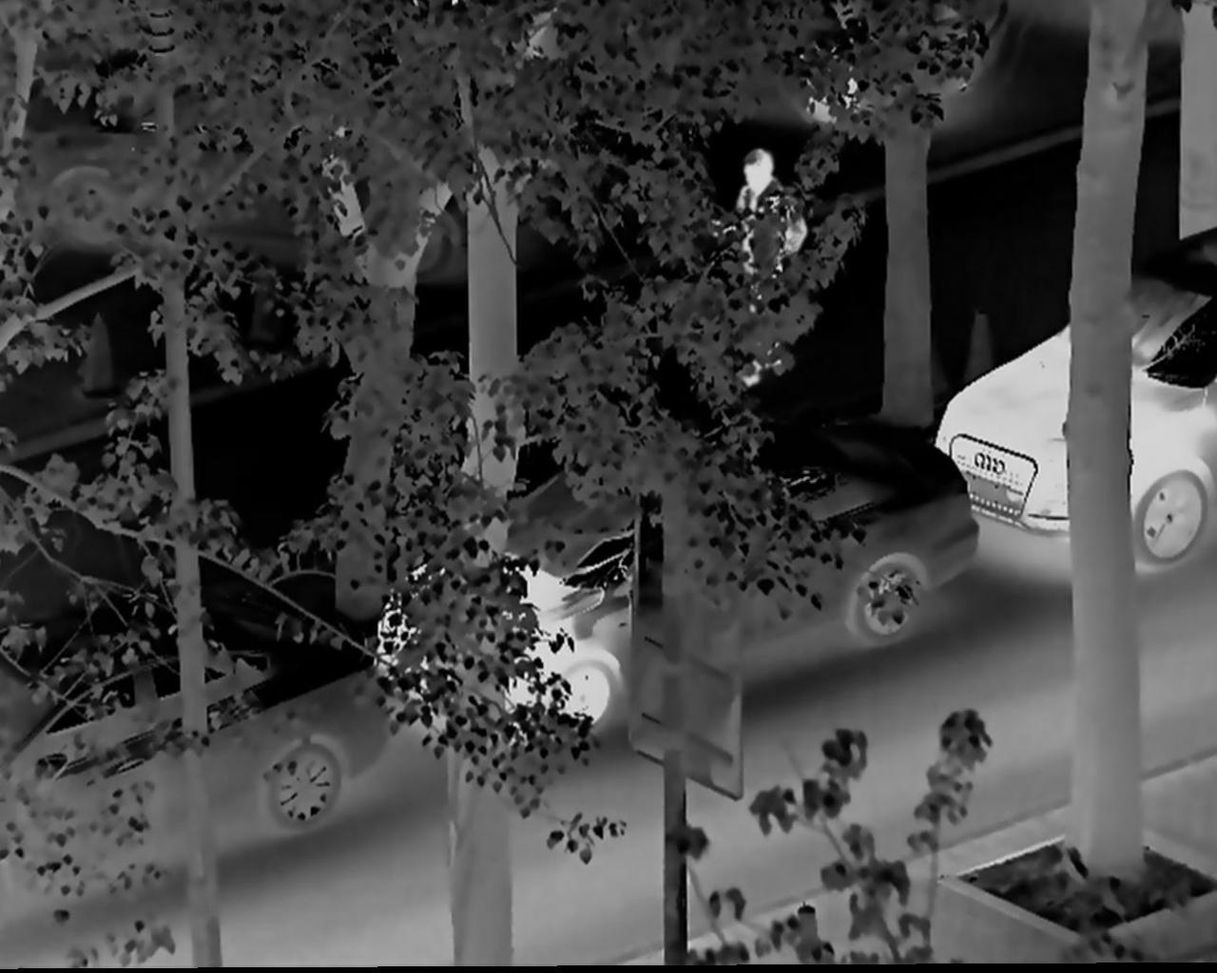person: (714, 141, 812, 395)
